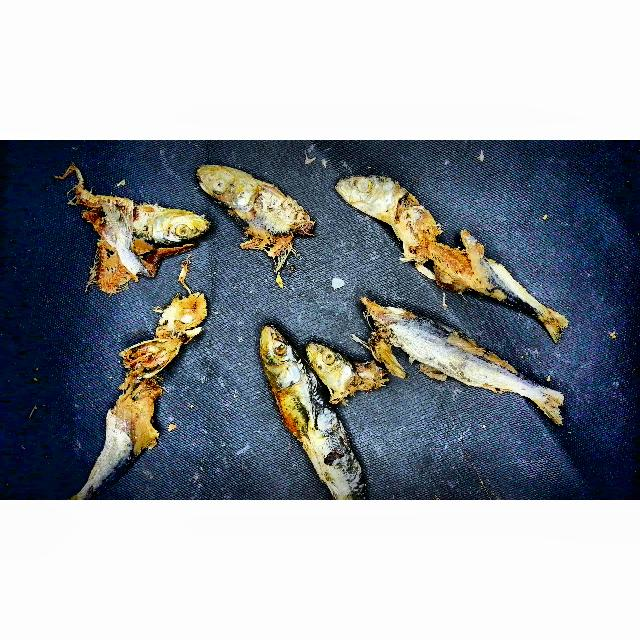Grade_C_Tail: (359, 297, 509, 389)
Rejected_Body: (71, 383, 175, 486), (422, 212, 525, 316)
Rejected_Head: (45, 200, 214, 296), (191, 159, 318, 270), (107, 295, 212, 382), (336, 167, 429, 250), (246, 317, 319, 398), (302, 334, 376, 409)
Rejected_Tail: (504, 377, 573, 432), (517, 295, 575, 347)
